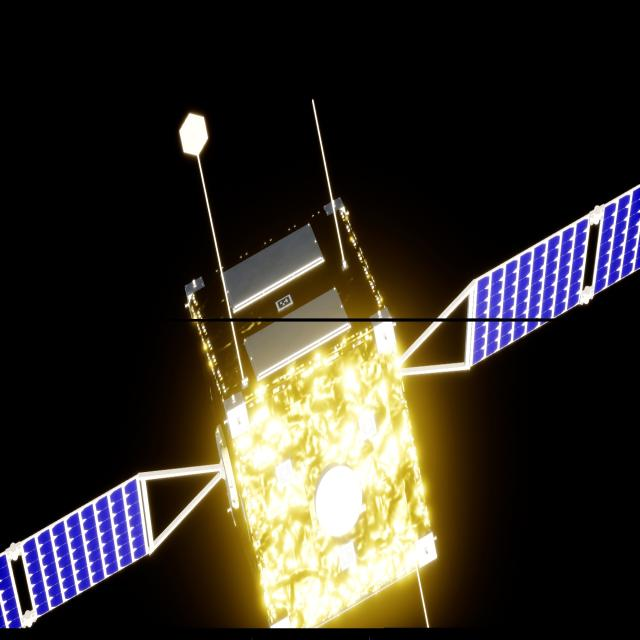medium_debris: (0, 184, 640, 633)
